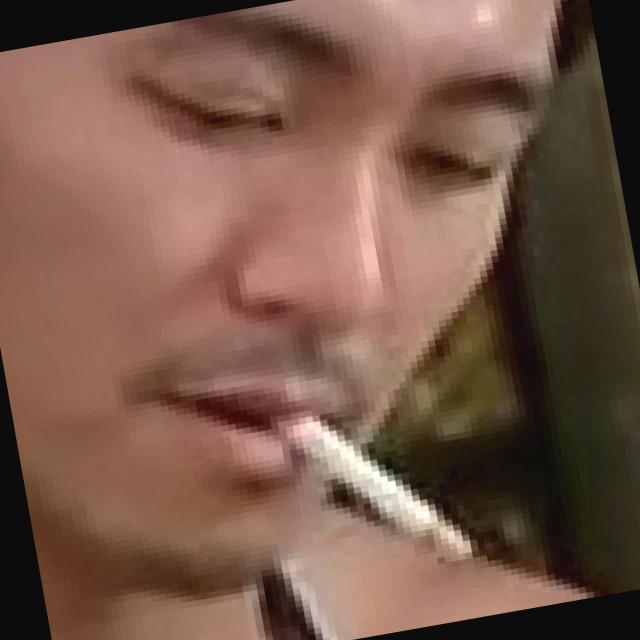smoke: (261, 374, 507, 590)
